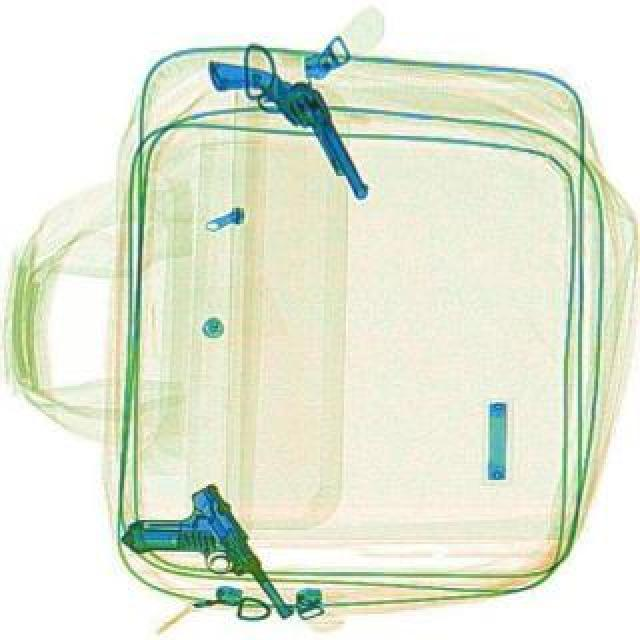gun: (198, 26, 370, 228), (116, 482, 276, 638)
